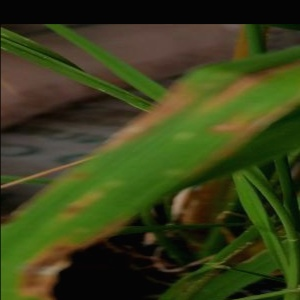Brown_Spot: (99, 73, 198, 153), (21, 234, 84, 300), (208, 113, 254, 138)
